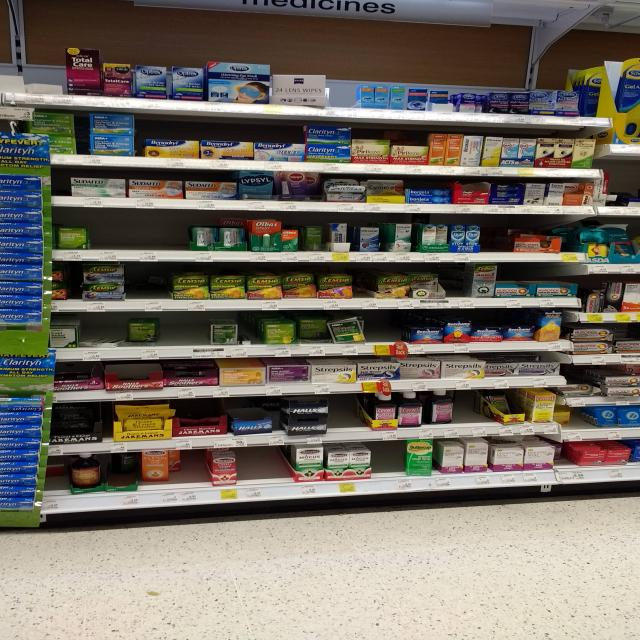empty: (90, 208, 197, 249), (157, 313, 207, 346), (323, 75, 366, 110), (242, 449, 293, 478), (366, 310, 410, 343), (327, 392, 366, 425), (44, 452, 75, 493), (442, 262, 475, 299), (78, 319, 125, 344), (460, 393, 497, 423), (373, 440, 403, 476), (475, 225, 509, 253)
